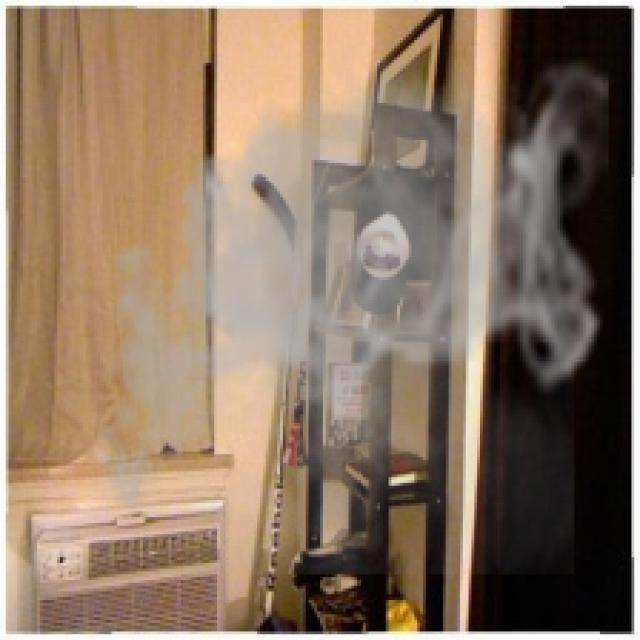Smoke: (80, 34, 609, 574)
